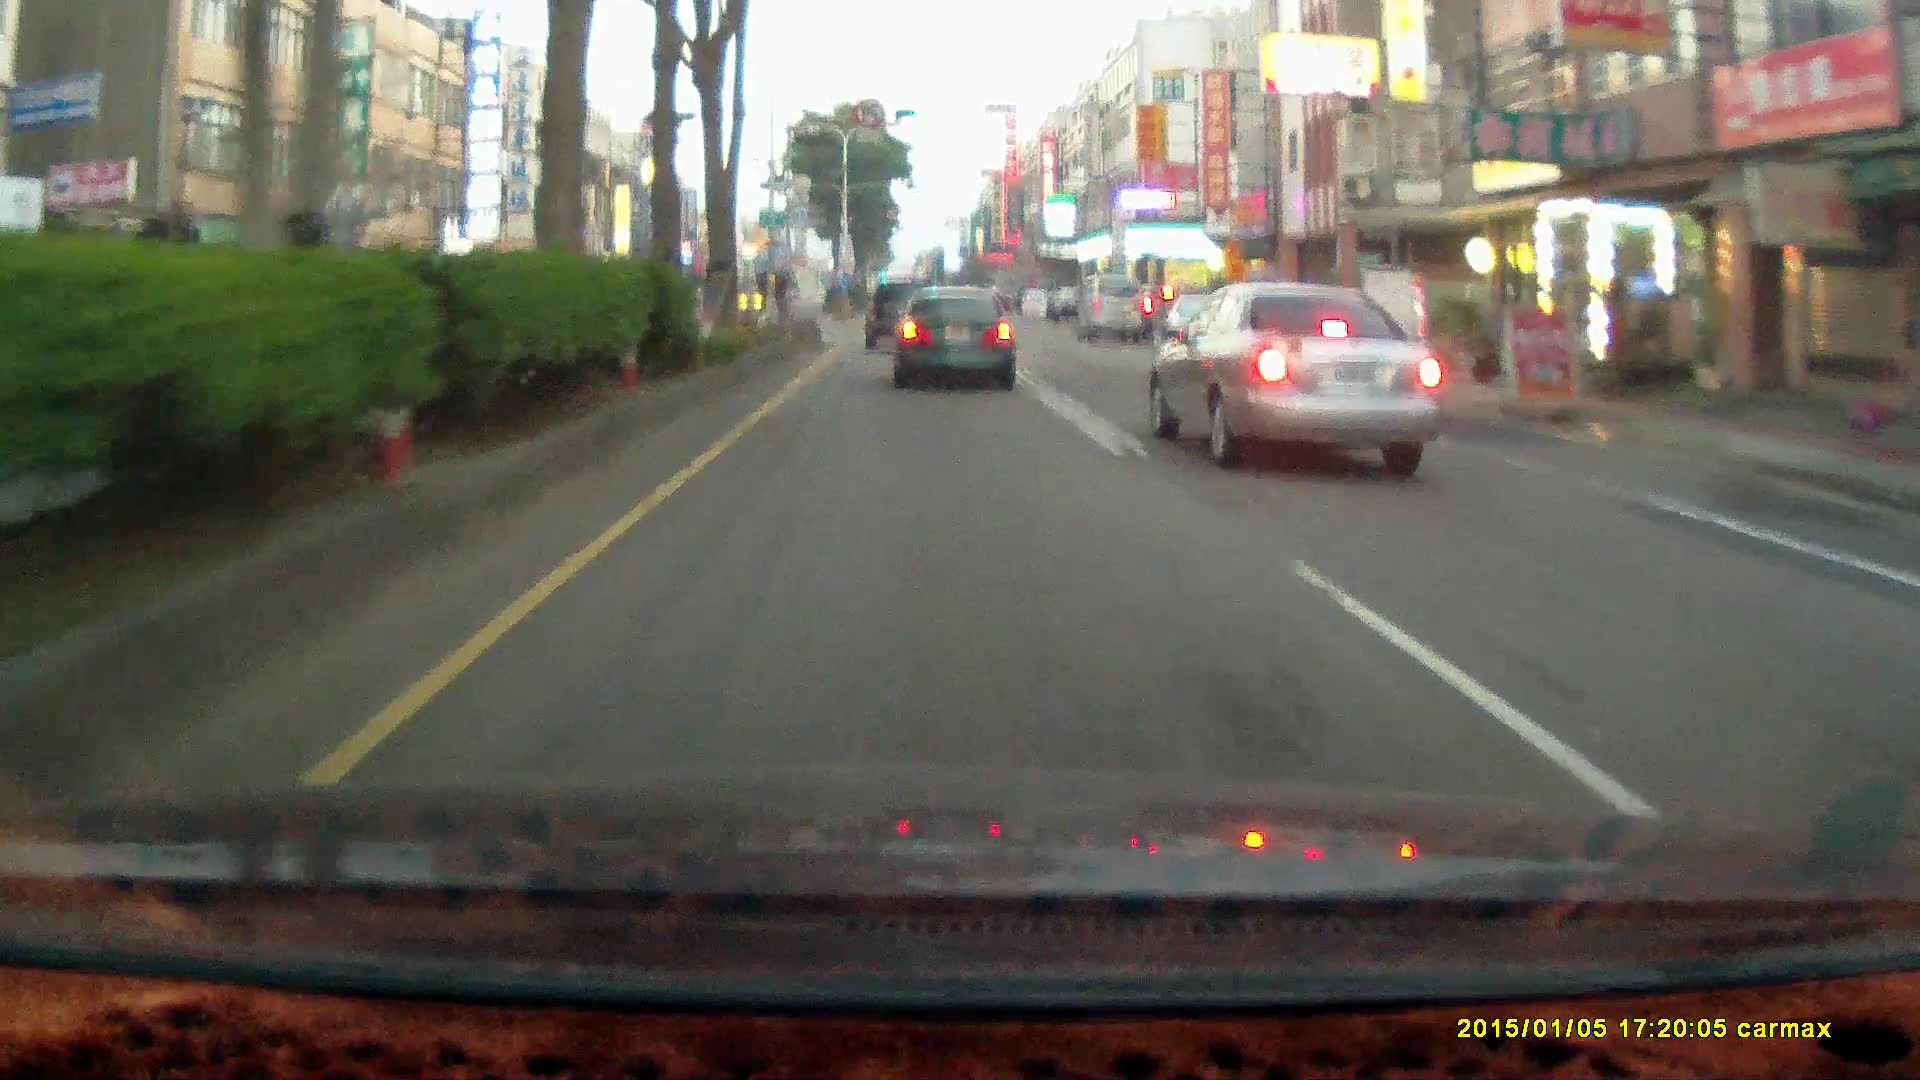vehicle: (1150, 286, 1445, 465), (891, 287, 1021, 396), (891, 287, 1013, 390), (864, 278, 944, 355), (862, 282, 939, 355), (1075, 280, 1149, 344), (1073, 273, 1146, 338), (1046, 286, 1098, 324), (1021, 289, 1048, 316)
